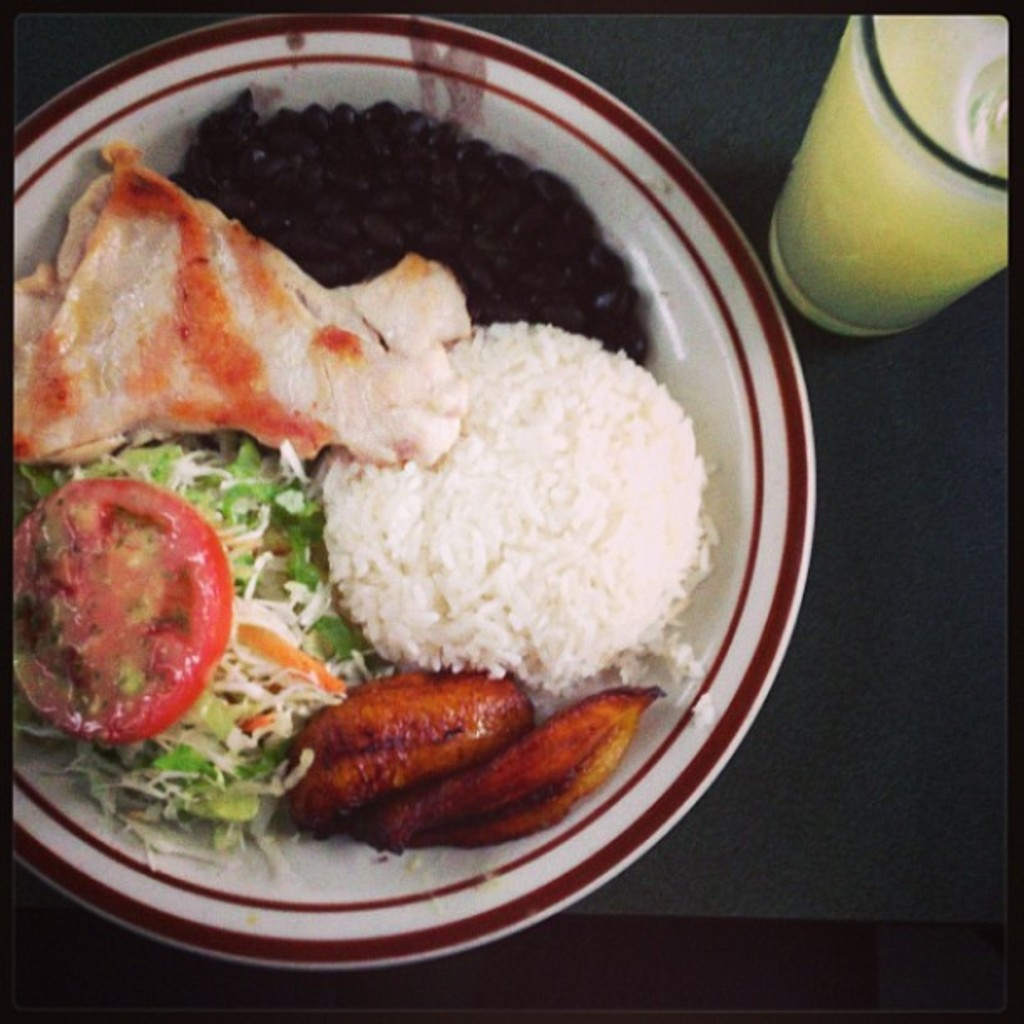Tomato: (45, 478, 227, 749)
